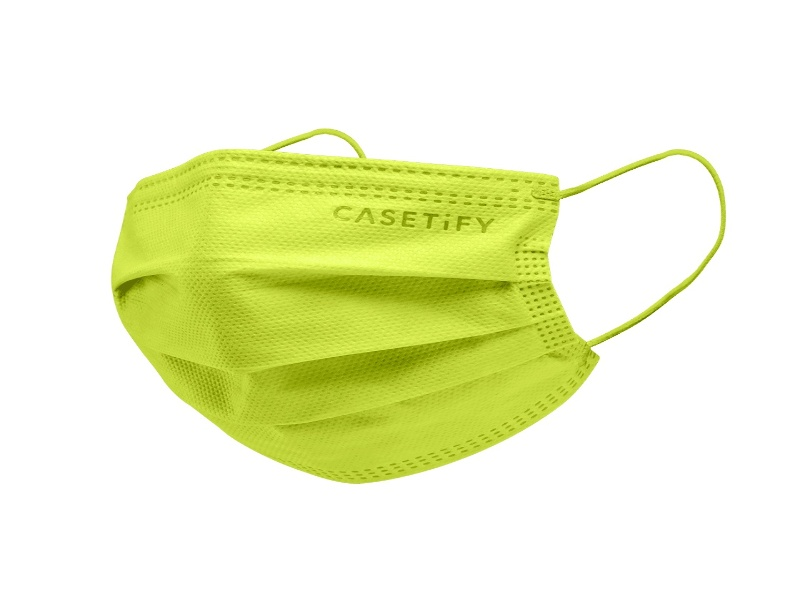mask: (106, 124, 729, 489)
